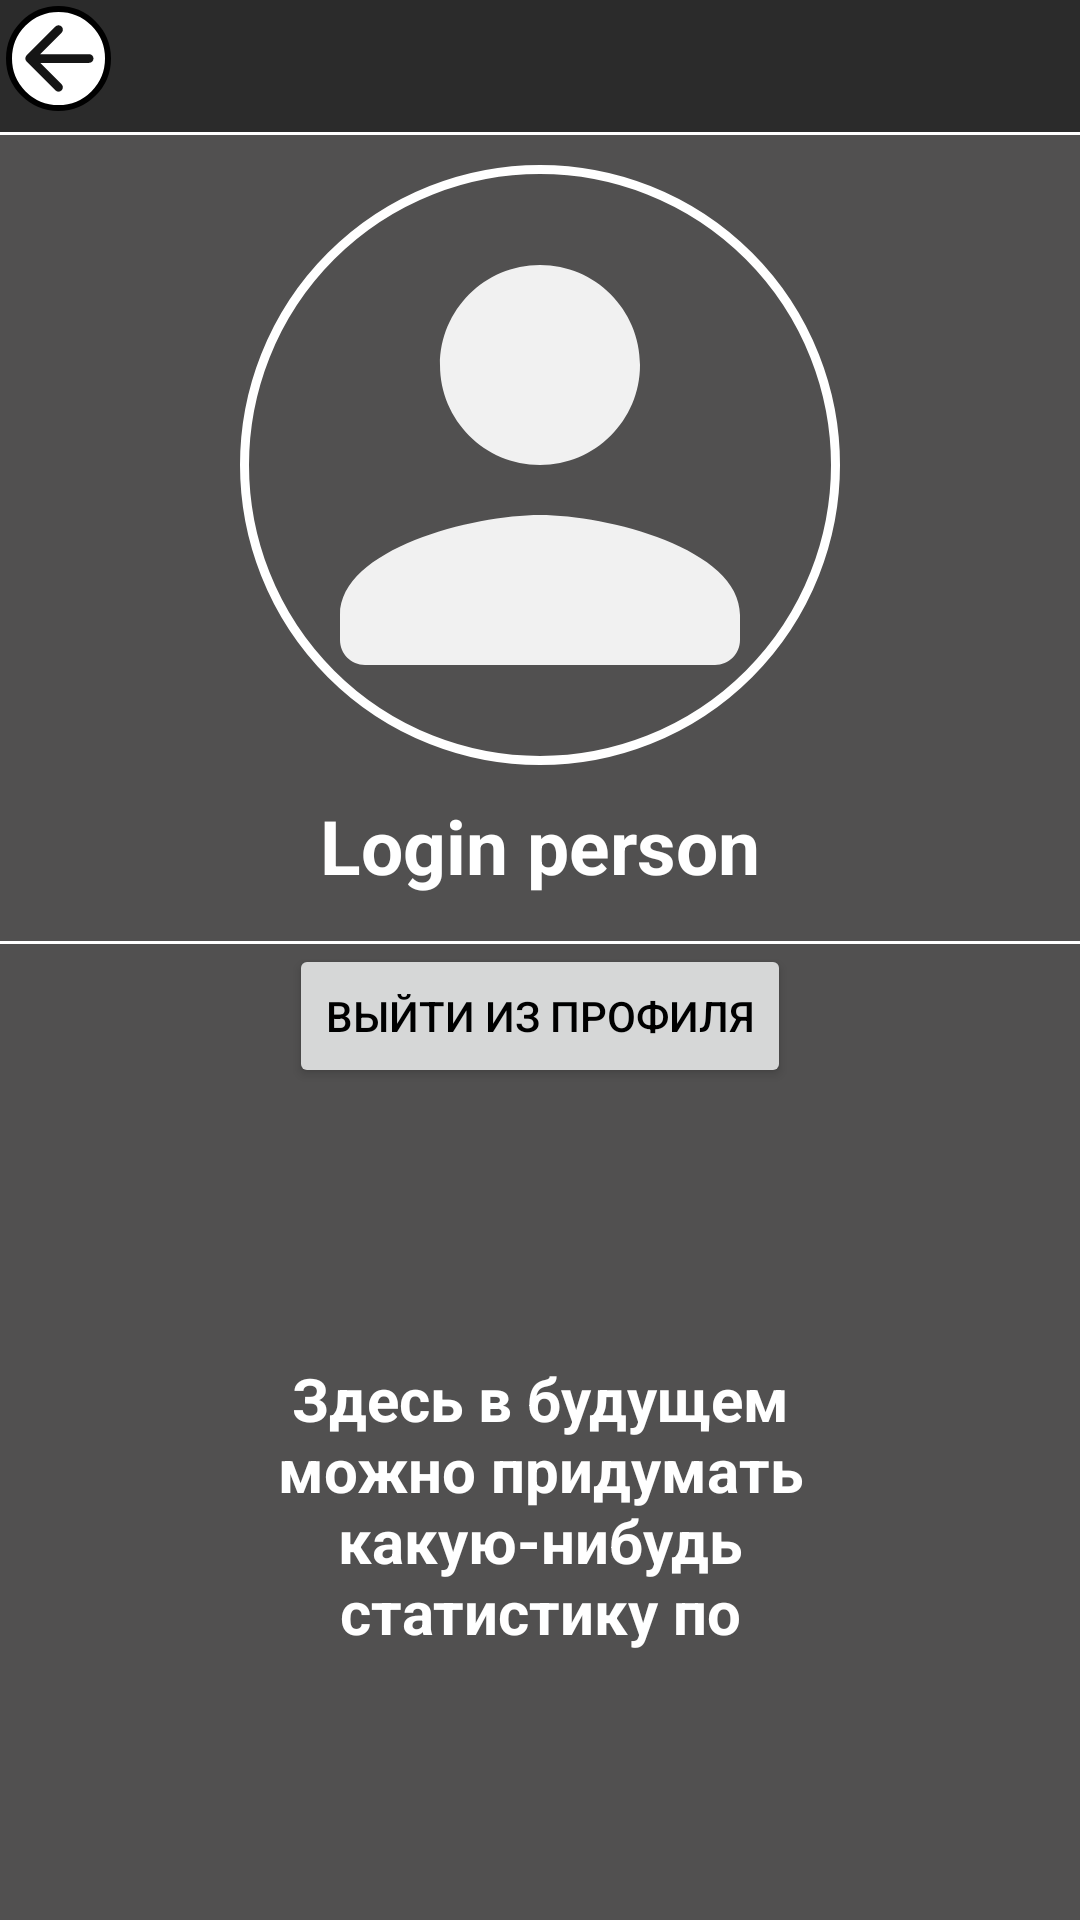

Icon click points for this 1080w x 1920h phone screenshot, format point (x, y):
arrow back: point (58, 58)
